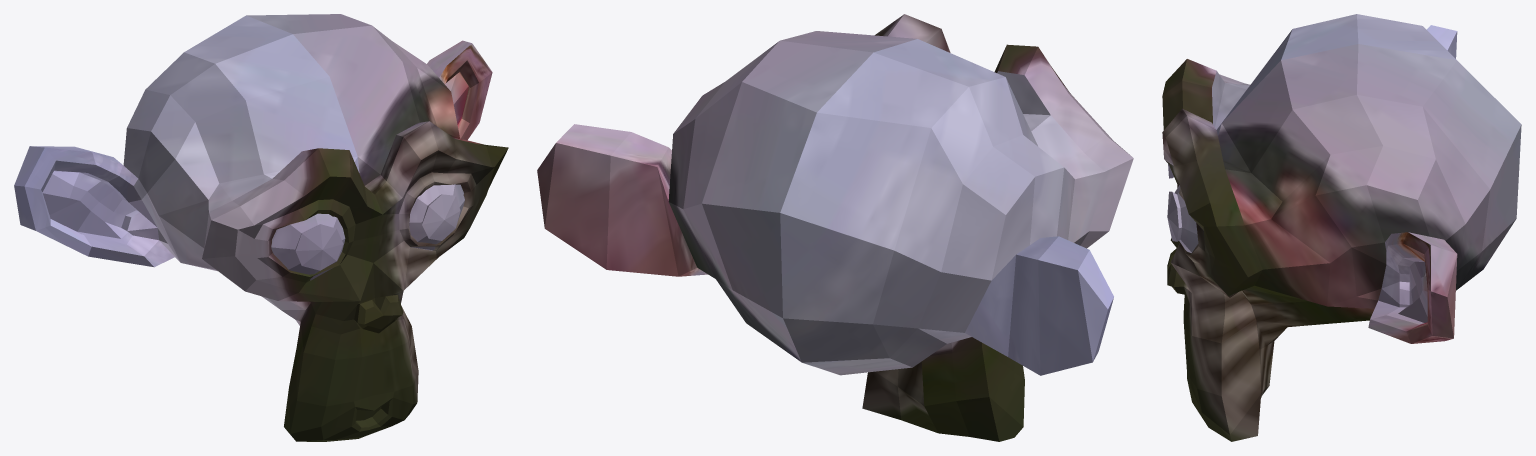
The model's file is monkey.obj.
3 views of the same model, side by side, from view 1: azimuth 30°, elevation 25°; view 2: azimuth 150°, elevation 25°; view 3: azimuth 270°, elevation 25° (orthographic). The views are drawn at different scales.
Visible parts, largest first — view 1: Suzanne; view 2: Suzanne; view 3: Suzanne.
Boxes of the visible parts, box(x1,y1,x2,y2) form: Suzanne: box(14, 14, 508, 441); Suzanne: box(537, 14, 1133, 441); Suzanne: box(1162, 14, 1521, 441).
Bounding box in the file's own units: 8.82 × 6.35 × 5.5.
Materials: 1 (1 with a texture image).
